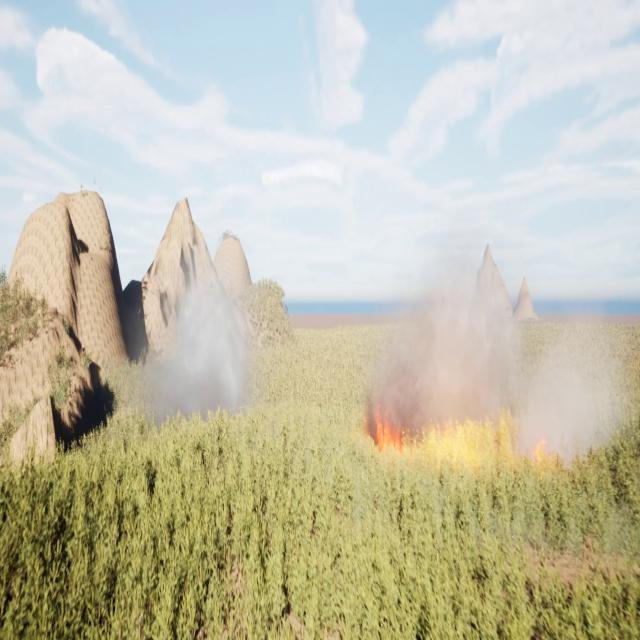fire: (371, 402, 405, 451)
smoke: (362, 224, 619, 460), (138, 267, 254, 420)
